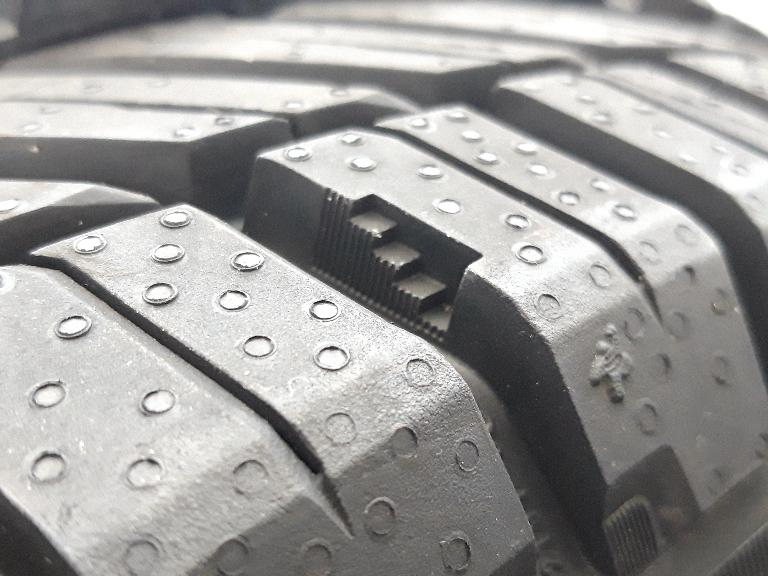temoin:100: (306, 177, 491, 351)
